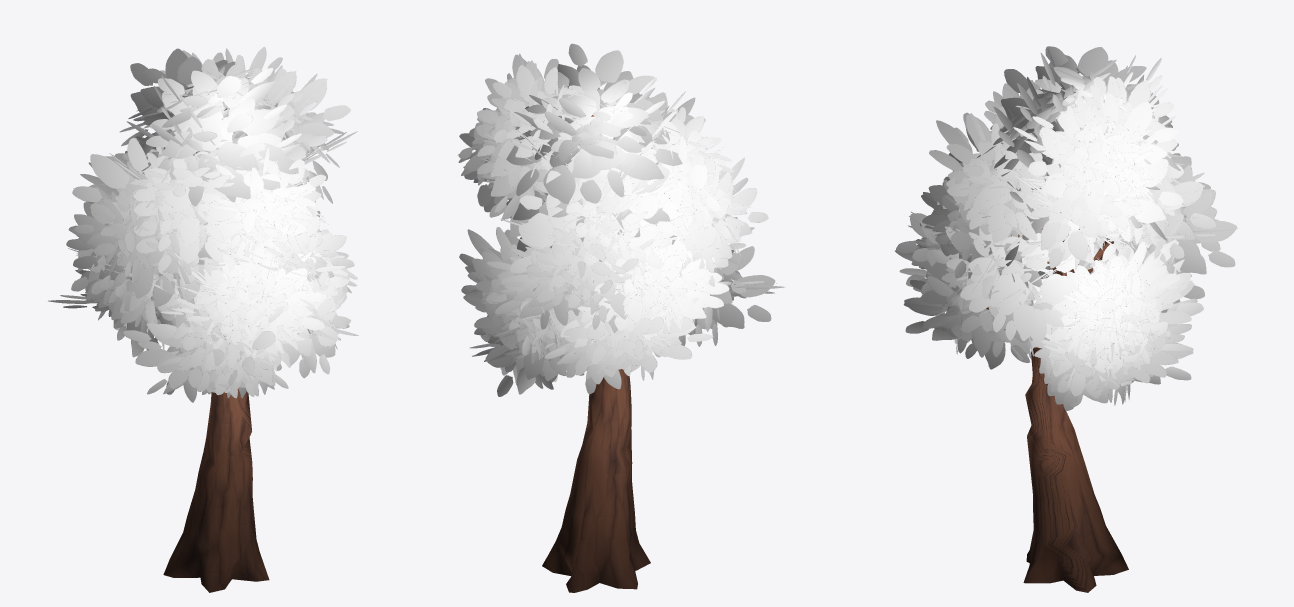
The model's file is CommonTree_1.gltf.
The picture shows the model from 3 angles, left to right: view 1: azimuth 30°, elevation 25°; view 2: azimuth 150°, elevation 25°; view 3: azimuth 270°, elevation 25°; orthographic projection.
Visible parts, largest first — view 1: CommonTree_1; view 2: CommonTree_1; view 3: CommonTree_1.
Boxes of the visible parts, left/top/right/bottom form: CommonTree_1: left=48, top=46, right=358, bottom=592; CommonTree_1: left=458, top=43, right=785, bottom=592; CommonTree_1: left=895, top=46, right=1237, bottom=592.
Size of the model in its own units: 4.85 by 7.59 by 5.43.
2 materials, 2 textured.
